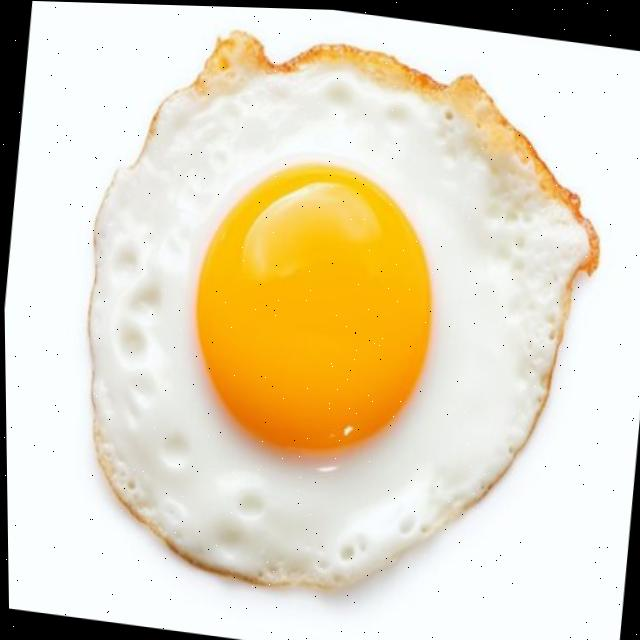Egg: (87, 30, 597, 584)
